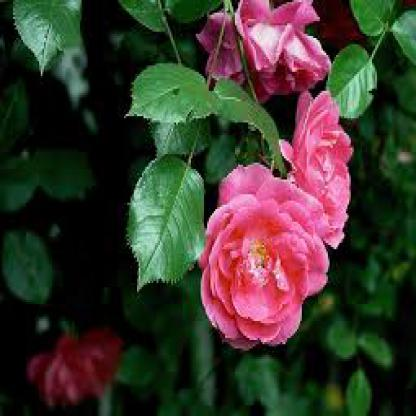Rose-Mawar: (205, 164, 344, 364), (278, 83, 357, 240)
